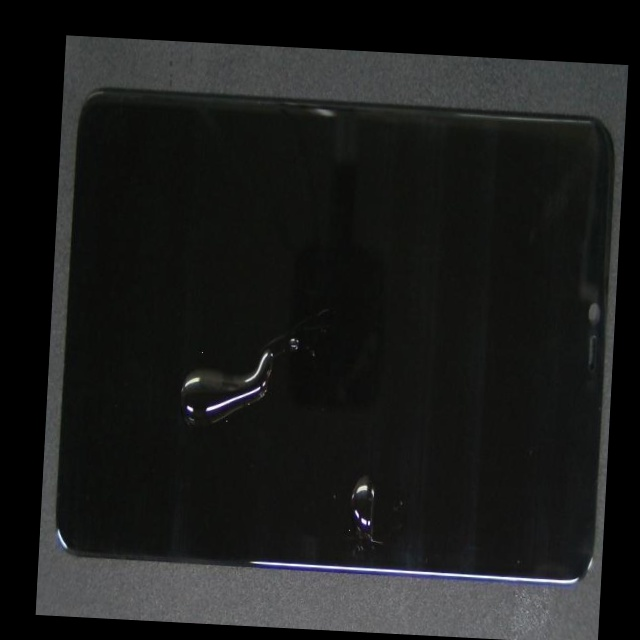oil: (212, 272, 547, 640), (166, 178, 353, 516)
